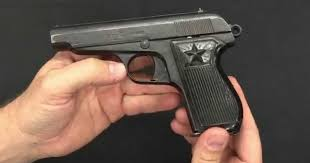gun: (46, 7, 245, 138)
